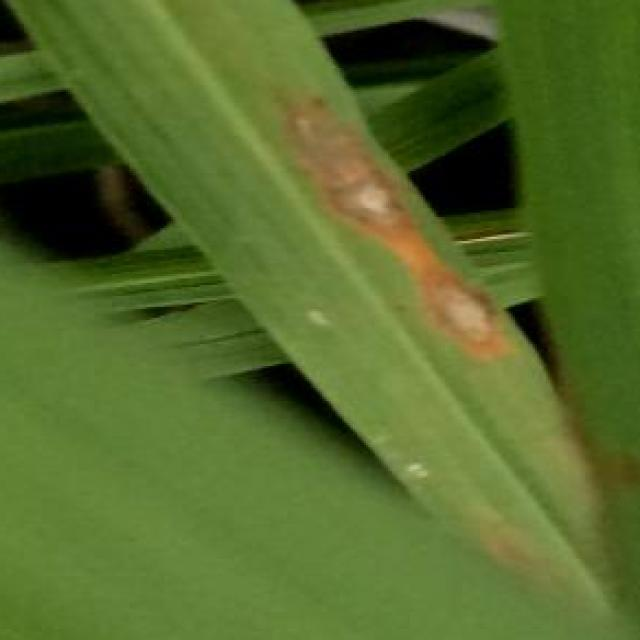Leaf_Blast: (261, 98, 445, 260), (416, 272, 522, 392)
